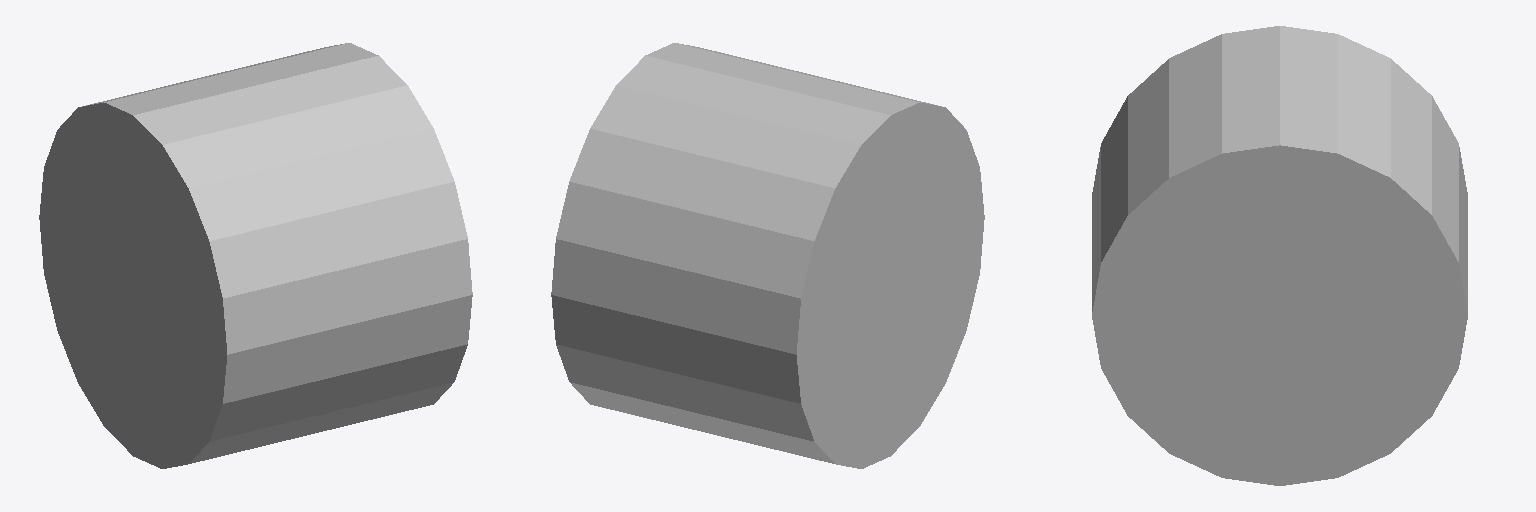
The model's file is Auriculotemporal_D_3.obj.
3 views of the same model, side by side, from view 1: azimuth 30°, elevation 25°; view 2: azimuth 150°, elevation 25°; view 3: azimuth 270°, elevation 25° (orthographic).
Visible parts, largest first — view 1: polySurface10; view 2: polySurface10; view 3: polySurface10.
Boxes of the visible parts, <box> form: polySurface10: <box>39,43,472,468</box>; polySurface10: <box>551,43,984,468</box>; polySurface10: <box>1092,26,1467,485</box>.
Size of the model in its own units: 0.021 by 0.0279 by 0.0279.